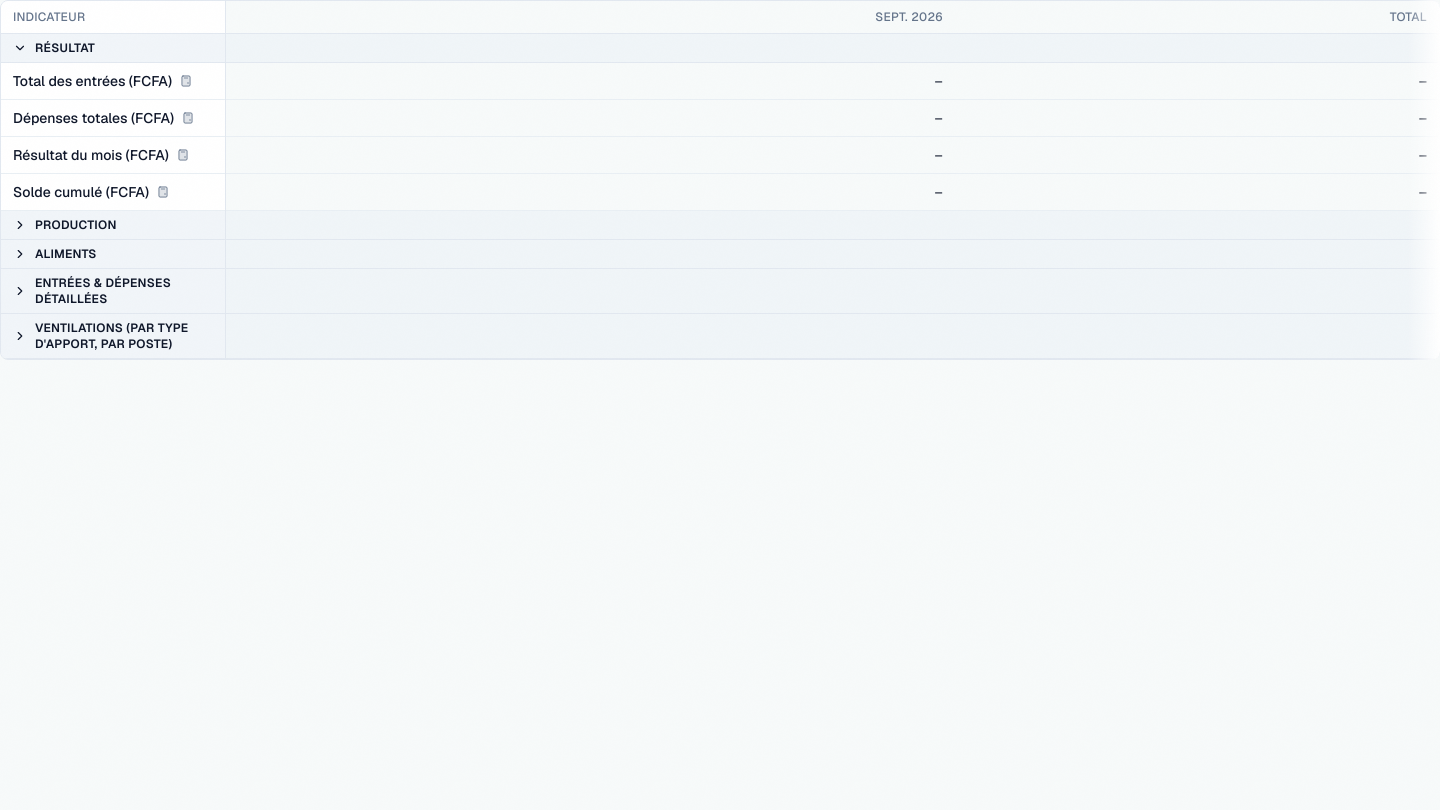
Scenario: PrevisionsMensuellesTab — formats §7.4 : caractères Unicode EXACTS (vérification adverse @tester) › une valeur nulle affiche le tiret U+2013 (en dash), jamais un hyphen-minus U+002D
The width and height of the screenshot is (1440, 810).
Expected: the table is shown, [1,1,1439,359]
Click the button "Aliments" at (113, 254), box [13,246,212,262]
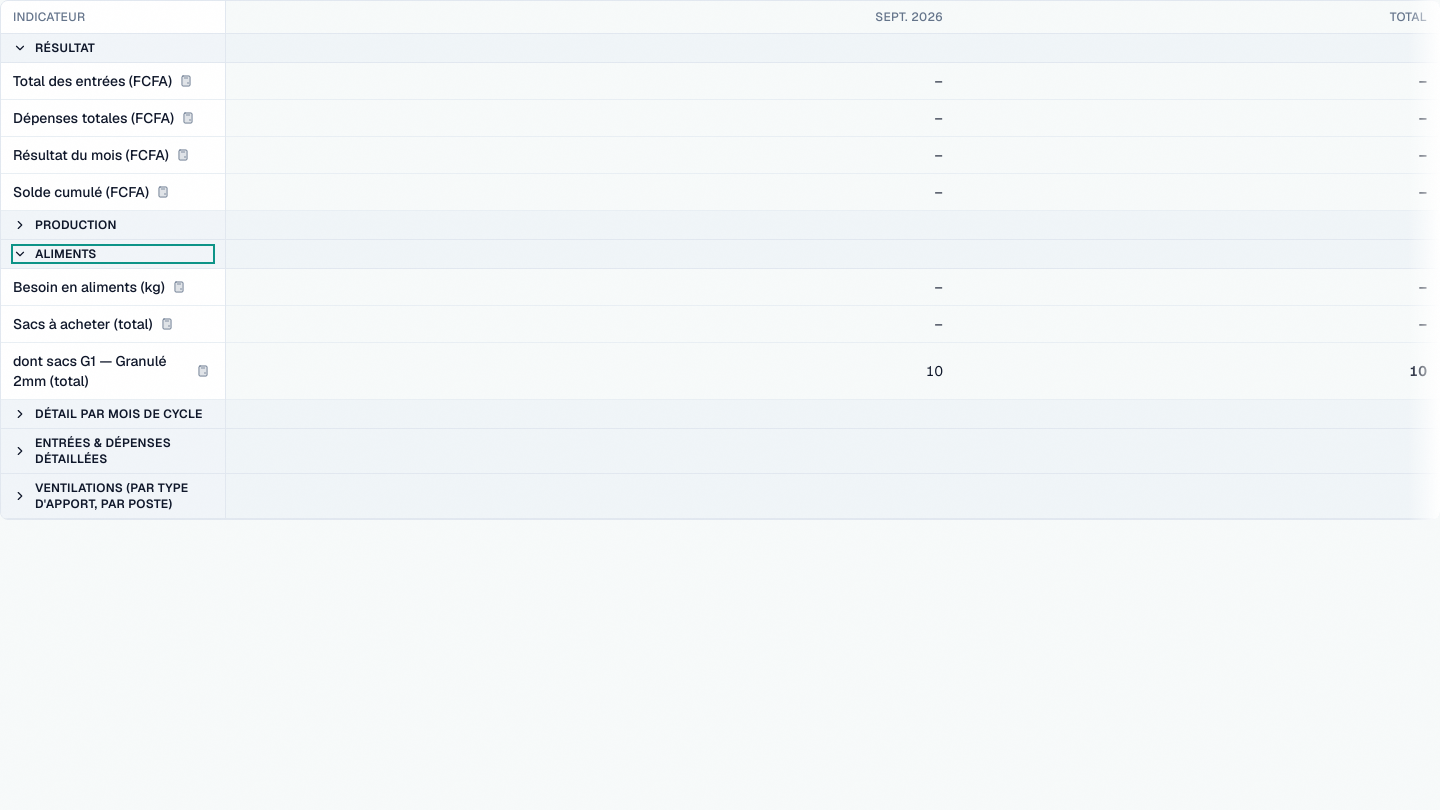
Click the button "Détail par mois de cycle" at (113, 414), box [13,406,212,422]
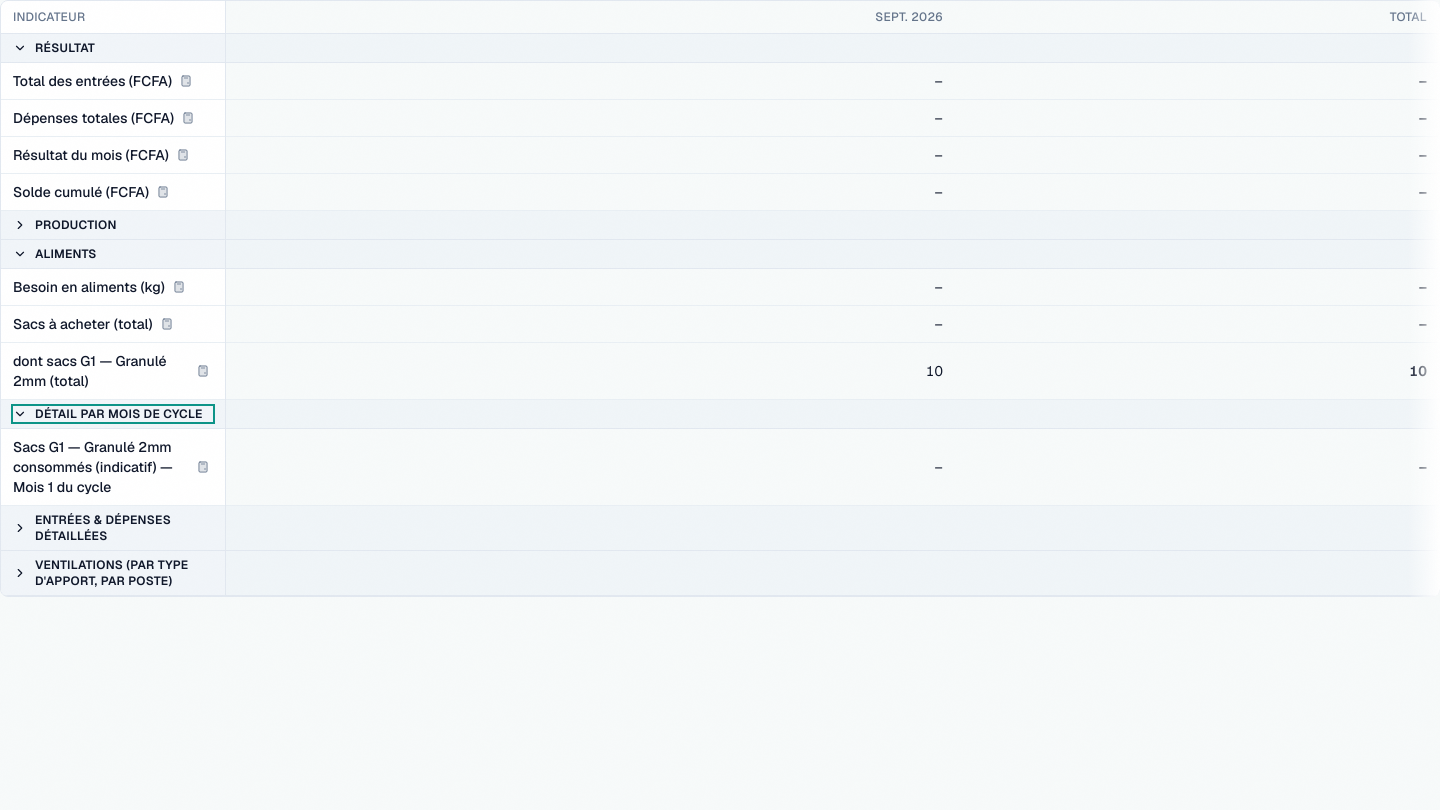
Now the text "–" is shown, box [225,428,955,506]
